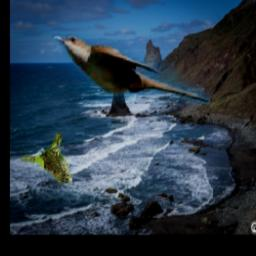Cuckoo: (52, 33, 210, 104)
Sparrow: (21, 132, 73, 184)
